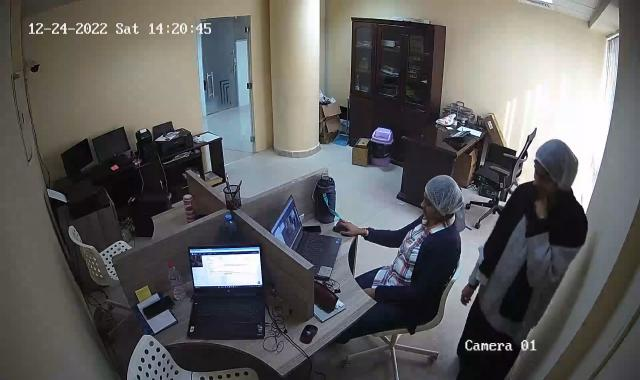hairnet: (533, 142, 578, 195), (420, 172, 462, 219)
